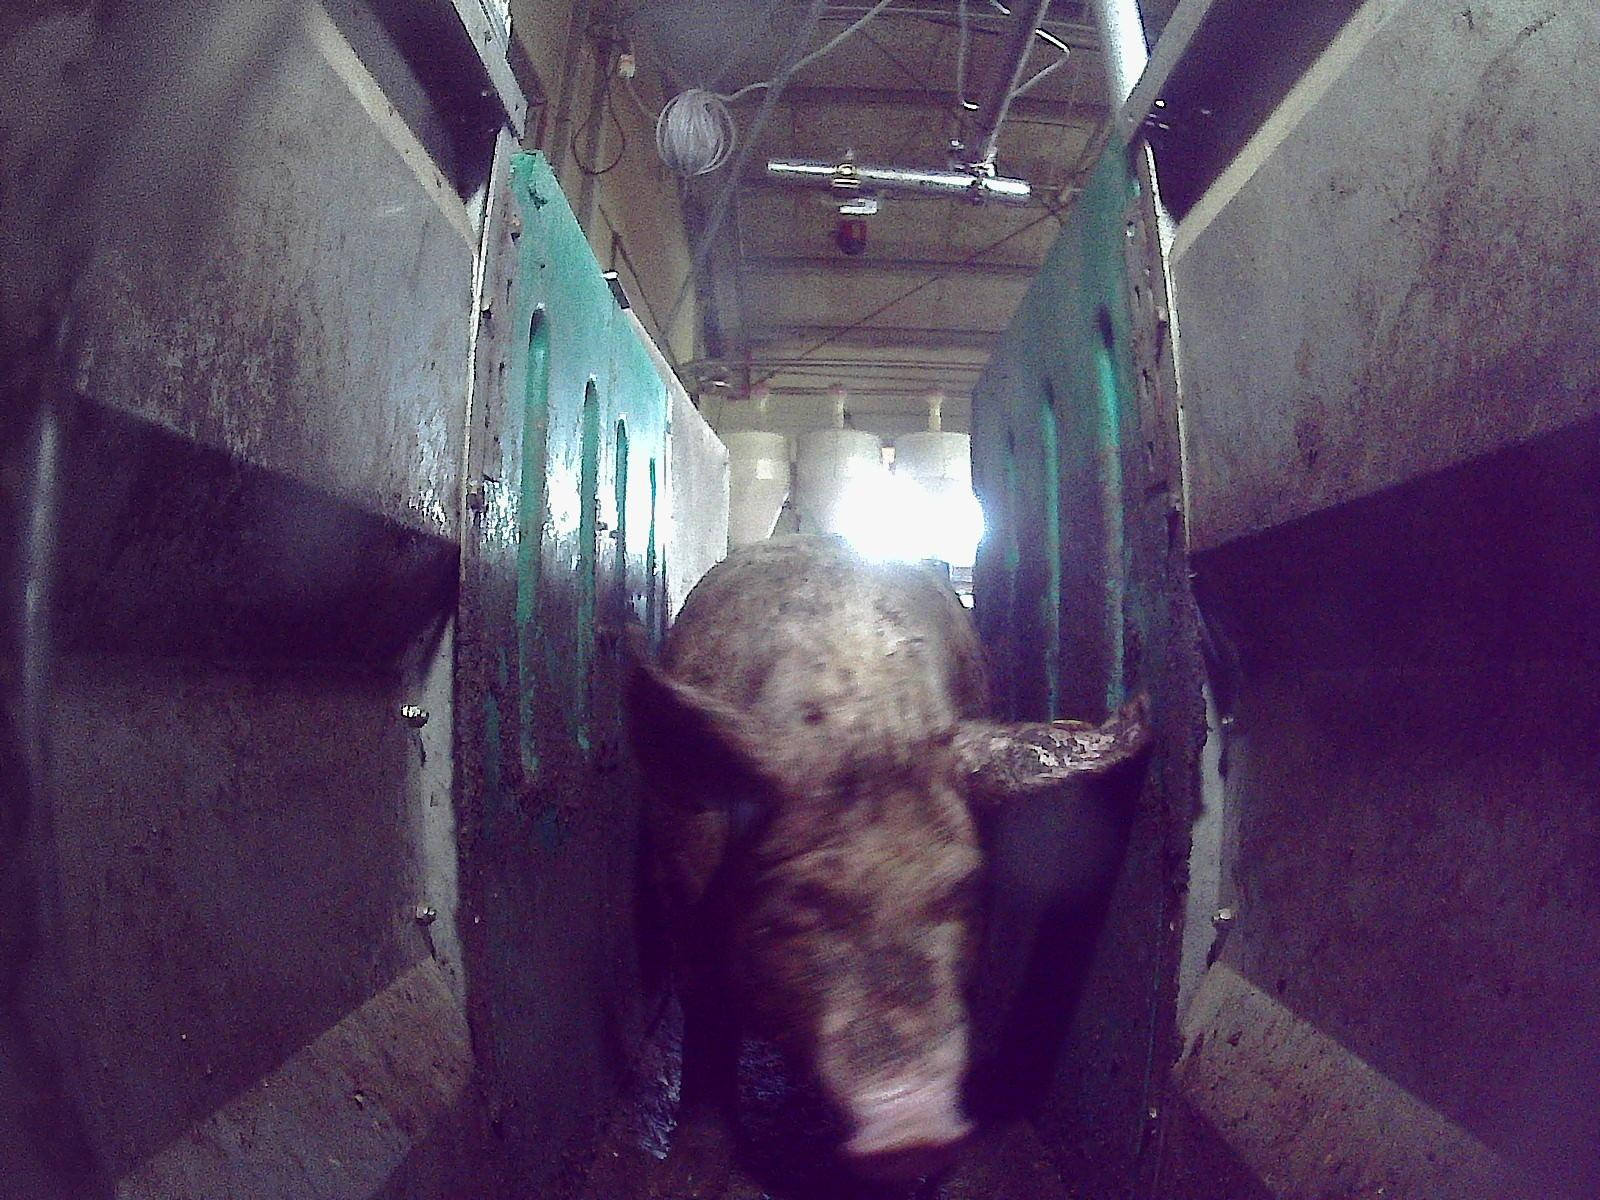Face: (713, 725, 984, 1178)
